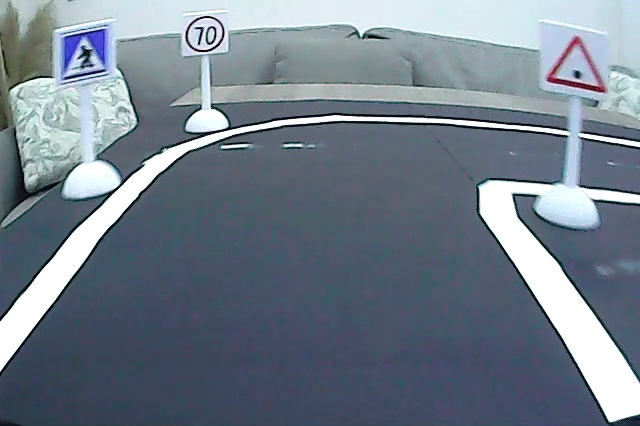green light: (543, 29, 610, 100)
pedestrian crossing: (56, 25, 112, 88)
speed limit 70: (183, 15, 227, 56)
